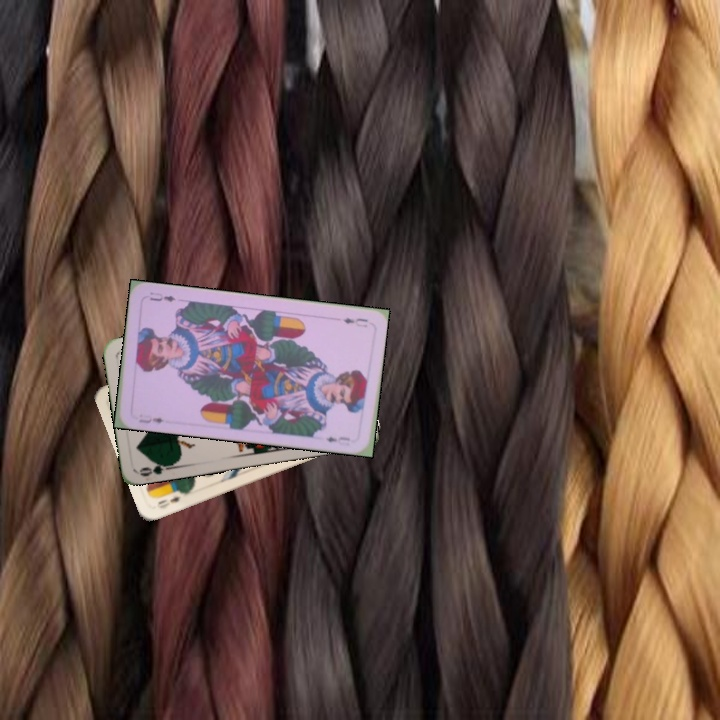EO: (152, 492, 183, 511)
EU: (339, 314, 370, 330), (135, 413, 166, 426)
GO: (136, 457, 177, 479)
